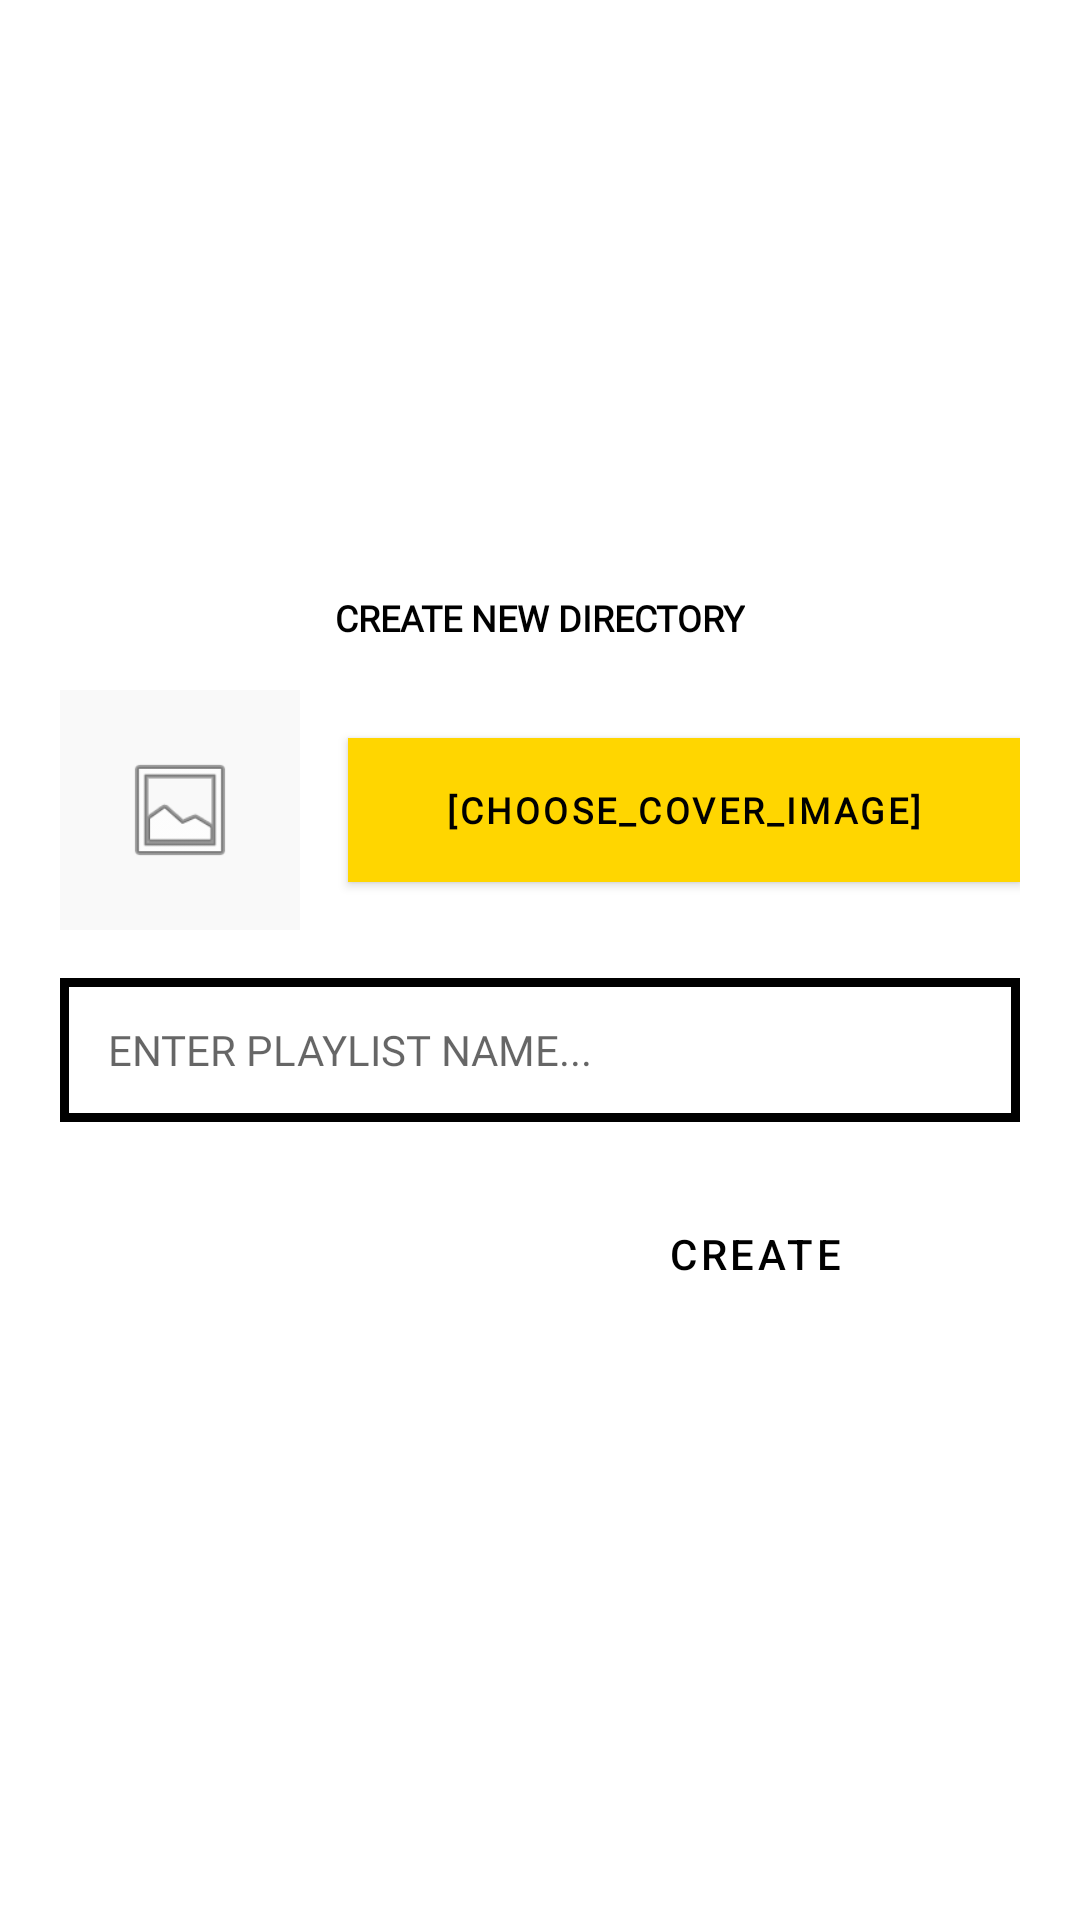

Icons on this 1080px x 1920px Android screen, each with its box as (x1=x1, y1=y1, x2=x2, y2=y2):
gallery: (x1=135, y1=765, x2=225, y2=855)
